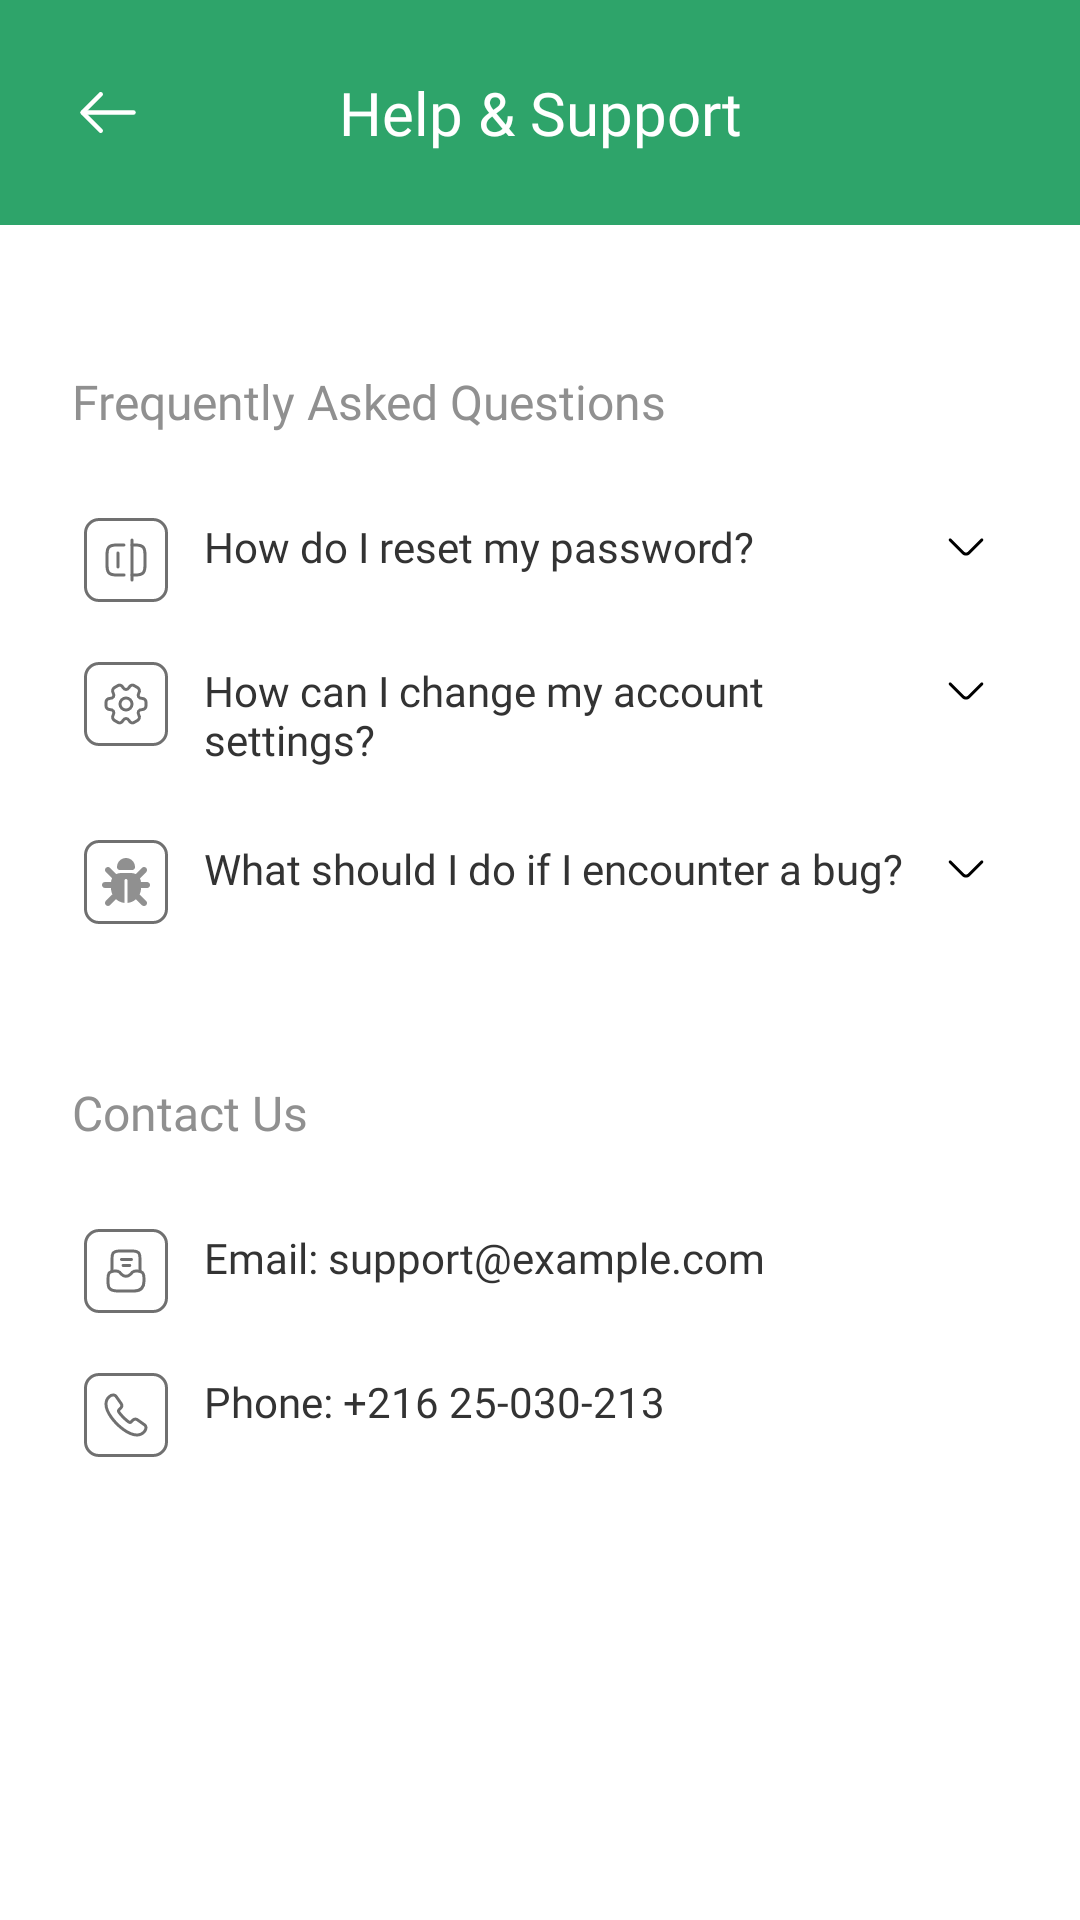

Screen size 1080*1920. Icon name, then its box in pixels as (x1, y1, x2, y2):
arrow: (80, 92, 136, 133)
call: (84, 1373, 168, 1457)
downarrow: (948, 538, 984, 556), (948, 682, 984, 700), (948, 860, 984, 878)
set: (84, 662, 168, 746)
